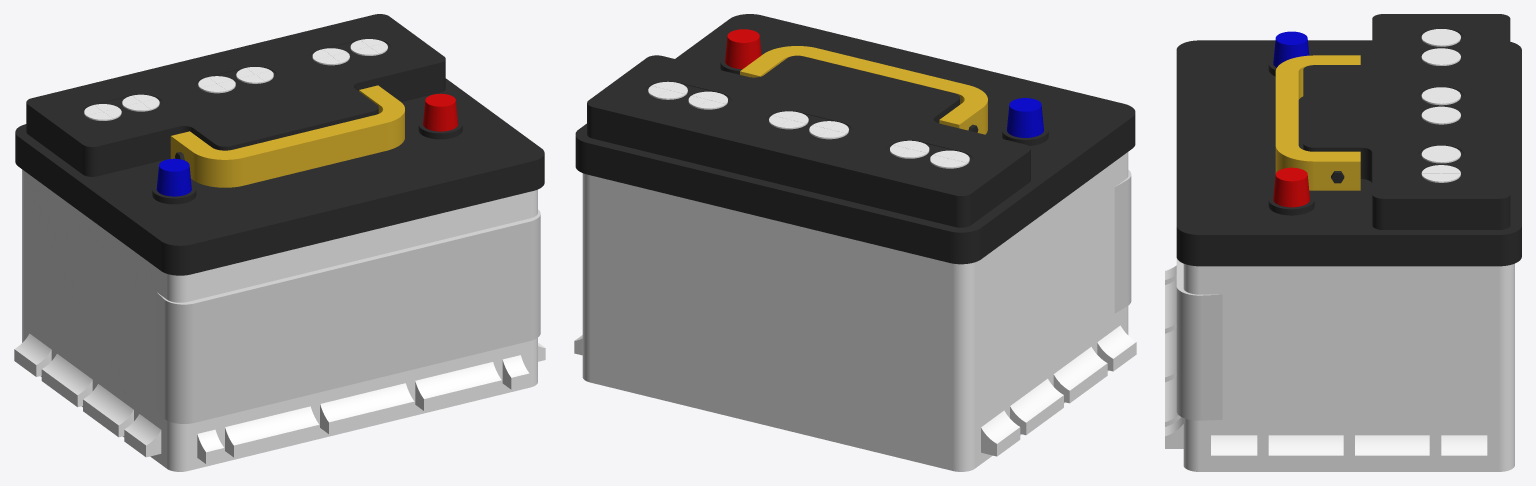
File: baterai_REV2.glb
3 views of the same model, side by side, from view 1: azimuth 30°, elevation 25°; view 2: azimuth 150°, elevation 25°; view 3: azimuth 270°, elevation 25° (orthographic). The views are drawn at different scales.
Parts seen in each view (by area): view 1: Boss_Extrude12, Cut_Extrude8, Fillet1, Cut_Extrude1, Boss_Extrude6, Cut_Extrude7_2_, Cut_Extrude7_1_, Cut_Extrude7_3_, Cut_Extrude6_2_, Cut_Extrude6_1_, Boss_Extrude5_1_, Boss_Extrude5_2_ (+5 smaller); view 2: Cut_Extrude8, Cut_Extrude1, Fillet1, Boss_Extrude6, Boss_Extrude12, Cut_Extrude6_1_, Cut_Extrude6_2_, Boss_Extrude5_1_, Cut_Extrude6_3_, Boss_Extrude5_2_, Cut_Extrude6_4_, Cut_Extrude9_5_ (+5 smaller); view 3: Cut_Extrude8, Fillet1, Cut_Extrude1, Boss_Extrude12, Boss_Extrude6, Boss_Extrude5_2_, Boss_Extrude5_1_, Cut_Extrude9_5_, Cut_Extrude9_1_, Cut_Extrude7_1_, Cut_Extrude7_2_, Cut_Extrude9_4_ (+6 smaller).
Boxes of the visible parts, x1,y1,x2,y2 form: Boss_Extrude12: [156, 209, 540, 423]; Cut_Extrude8: [22, 169, 545, 471]; Fillet1: [15, 78, 544, 275]; Cut_Extrude1: [26, 14, 445, 176]; Boss_Extrude6: [170, 85, 404, 187]; Cut_Extrude7_2_: [320, 383, 414, 434]; Cut_Extrude7_1_: [225, 406, 319, 457]; Cut_Extrude7_3_: [415, 362, 501, 410]; Cut_Extrude6_2_: [41, 354, 92, 407]; Cut_Extrude6_1_: [83, 384, 133, 437]; Boss_Extrude5_1_: [156, 158, 191, 196]; Boss_Extrude5_2_: [423, 93, 458, 131]; Cut_Extrude8: [574, 152, 1128, 471]; Cut_Extrude1: [587, 55, 1030, 227]; Fillet1: [575, 14, 1135, 264]; Boss_Extrude6: [740, 46, 987, 134]; Boss_Extrude12: [1114, 170, 1131, 313]; Cut_Extrude6_1_: [1053, 346, 1107, 403]; Cut_Extrude6_2_: [1010, 378, 1063, 435]; Boss_Extrude5_1_: [1007, 98, 1043, 137]; Cut_Extrude6_3_: [981, 410, 1020, 456]; Boss_Extrude5_2_: [725, 29, 761, 69]; Cut_Extrude6_4_: [1097, 325, 1136, 371]; Cut_Extrude9_5_: [809, 121, 848, 139]; Cut_Extrude8: [1183, 263, 1514, 471]; Fillet1: [1176, 40, 1521, 266]; Cut_Extrude1: [1303, 14, 1510, 229]; Boss_Extrude12: [1176, 258, 1222, 420]; Boss_Extrude6: [1275, 55, 1360, 190]; Boss_Extrude5_2_: [1273, 167, 1309, 207]; Boss_Extrude5_1_: [1273, 31, 1309, 67]; Cut_Extrude9_5_: [1421, 87, 1460, 105]; Cut_Extrude9_1_: [1421, 145, 1460, 163]; Cut_Extrude7_1_: [1165, 279, 1176, 333]; Cut_Extrude7_2_: [1165, 328, 1176, 382]; Cut_Extrude9_4_: [1421, 106, 1460, 124].
Bounding box in the file's own units: 3.98 × 2.48 × 2.94.
